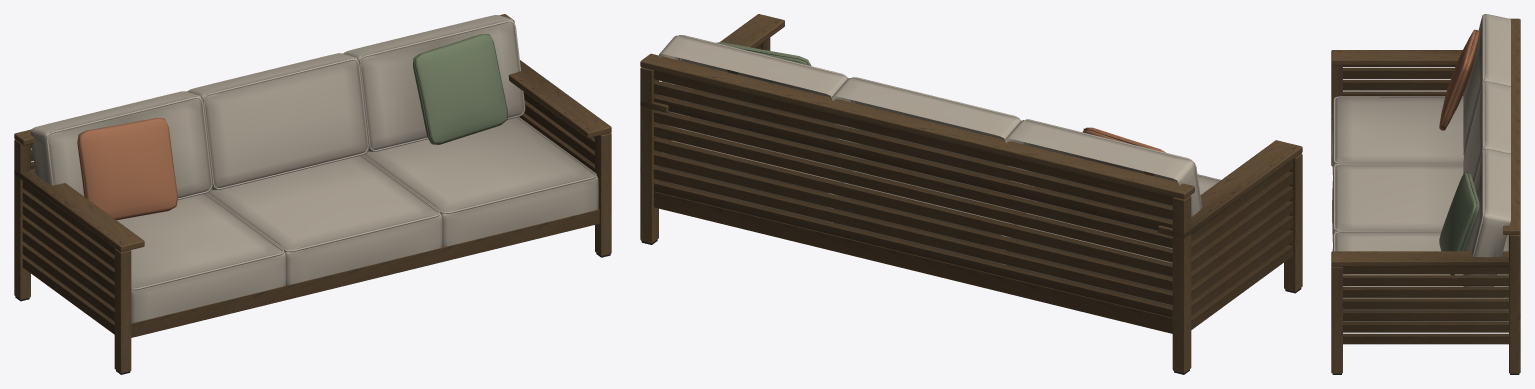
The model's file is courtyard_sofa.gltf.
The picture shows the model from 3 angles, left to right: view 1: azimuth 30°, elevation 25°; view 2: azimuth 150°, elevation 25°; view 3: azimuth 270°, elevation 25°; orthographic projection. The views are drawn at different scales.
Visible parts, largest first — view 1: CourtyardSofa_SeatCushion1, CourtyardSofa_SeatCushion2, CourtyardSofa_BackCushion1, CourtyardSofa_SeatCushion0, CourtyardSofa_BackCushion2, CourtyardSofa_Pillow0, CourtyardSofa_BackCushion0, CourtyardSofa_Pillow1, CourtyardSofa_RailFront, CourtyardSofa_ArmCapL, CourtyardSofa_ArmCapR, CourtyardSofa_Leg0 (+18 smaller); view 2: CourtyardSofa_BackCap, CourtyardSofa_RailBack, CourtyardSofa_BackSlat2, CourtyardSofa_BackSlat5, CourtyardSofa_BackSlat4, CourtyardSofa_BackSlat8, CourtyardSofa_BackSlat3, CourtyardSofa_BackSlat6, CourtyardSofa_BackSlat7, CourtyardSofa_BackSlat1, CourtyardSofa_BackCushion0, CourtyardSofa_BackCushion2 (+17 smaller); view 3: CourtyardSofa_SeatCushion0, CourtyardSofa_SeatCushion1, CourtyardSofa_BackCushion2, CourtyardSofa_SeatCushion2, CourtyardSofa_BackCushion0, CourtyardSofa_BackCushion1, CourtyardSofa_ArmCapR, CourtyardSofa_BackCap, CourtyardSofa_ArmCapL, CourtyardSofa_ArmSlatR0, CourtyardSofa_ArmSlatR3, CourtyardSofa_Pillow1 (+21 smaller).
Part boxes in pixels (bbox=[...]): CourtyardSofa_SeatCushion1: bbox=[208, 155, 442, 284]; CourtyardSofa_SeatCushion2: bbox=[364, 117, 598, 246]; CourtyardSofa_BackCushion1: bbox=[187, 53, 367, 189]; CourtyardSofa_SeatCushion0: bbox=[117, 194, 285, 322]; CourtyardSofa_BackCushion2: bbox=[344, 15, 524, 151]; CourtyardSofa_Pillow0: bbox=[77, 118, 177, 219]; CourtyardSofa_BackCushion0: bbox=[30, 91, 211, 198]; CourtyardSofa_Pillow1: bbox=[413, 34, 507, 143]; CourtyardSofa_RailFront: bbox=[131, 209, 599, 337]; CourtyardSofa_ArmCapL: bbox=[14, 168, 144, 252]; CourtyardSofa_ArmCapR: bbox=[508, 60, 611, 138]; CourtyardSofa_Leg0: bbox=[114, 249, 131, 373]; CourtyardSofa_BackCap: bbox=[640, 53, 1194, 199]; CourtyardSofa_RailBack: bbox=[654, 191, 1172, 333]; CourtyardSofa_BackSlat2: bbox=[654, 166, 1172, 305]; CourtyardSofa_BackSlat5: bbox=[654, 123, 1172, 262]; CourtyardSofa_BackSlat4: bbox=[654, 138, 1172, 276]; CourtyardSofa_BackSlat8: bbox=[654, 81, 1172, 219]; CourtyardSofa_BackSlat3: bbox=[654, 152, 1172, 290]; CourtyardSofa_BackSlat6: bbox=[654, 110, 1172, 248]; CourtyardSofa_BackSlat7: bbox=[654, 95, 1172, 230]; CourtyardSofa_BackSlat1: bbox=[654, 180, 1172, 317]; CourtyardSofa_BackCushion0: bbox=[1005, 120, 1200, 248]; CourtyardSofa_BackCushion2: bbox=[658, 35, 858, 182]; CourtyardSofa_SeatCushion0: bbox=[1332, 97, 1463, 174]; CourtyardSofa_SeatCushion1: bbox=[1332, 164, 1463, 241]; CourtyardSofa_BackCushion2: bbox=[1463, 149, 1510, 286]; CourtyardSofa_SeatCushion2: bbox=[1332, 232, 1508, 321]; CourtyardSofa_BackCushion0: bbox=[1463, 14, 1510, 152]; CourtyardSofa_BackCushion1: bbox=[1463, 81, 1510, 182]; CourtyardSofa_ArmCapR: bbox=[1331, 251, 1520, 266]; CourtyardSofa_BackCap: bbox=[1503, 18, 1520, 234]; CourtyardSofa_ArmCapL: bbox=[1331, 50, 1462, 65]; CourtyardSofa_ArmSlatR0: bbox=[1343, 333, 1508, 344]; CourtyardSofa_ArmSlatR3: bbox=[1343, 298, 1508, 309]; CourtyardSofa_Pillow1: bbox=[1439, 172, 1479, 275].
Bounding box in the file's own units: 2.6 × 0.8926 × 0.98.
Materials: 5 (1 with a texture image).
